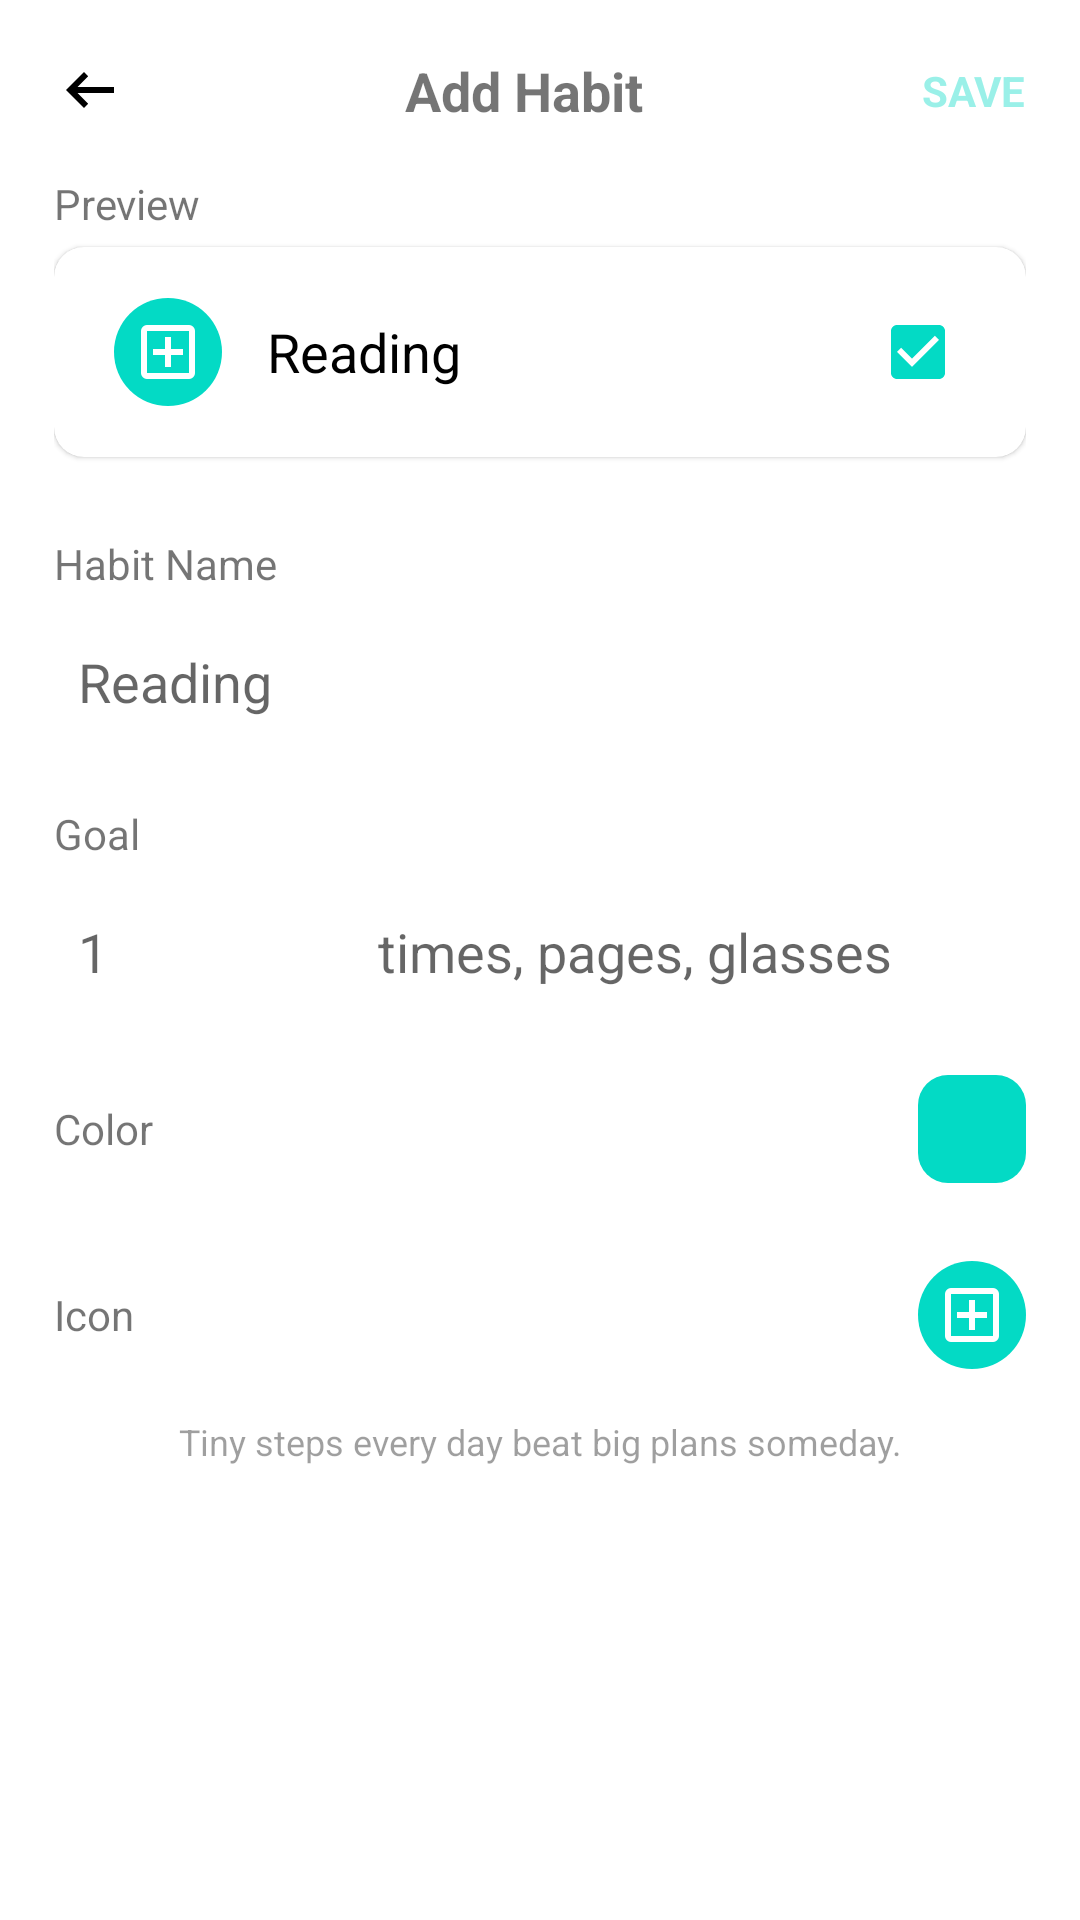

Point at icon controls on the screen. Image size 1080 x 1920, points as (x,y).
add box: (168,352), (972,1315)
arrow left: (90,90)
